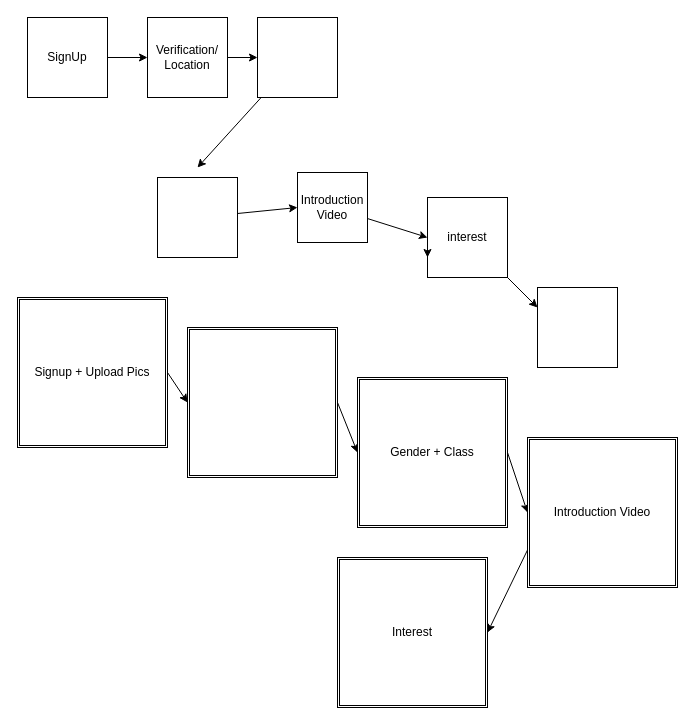
Image size: 695x725. Some labels were removed from this diagram. Here are the shapes that lost their labels. From the top down, the centre of each, then its label:
the point at 297,57: UploadPicture
the point at 197,217: PersonalData
the point at 577,327: Dashboard
the point at 262,402: Verifiction & Location
